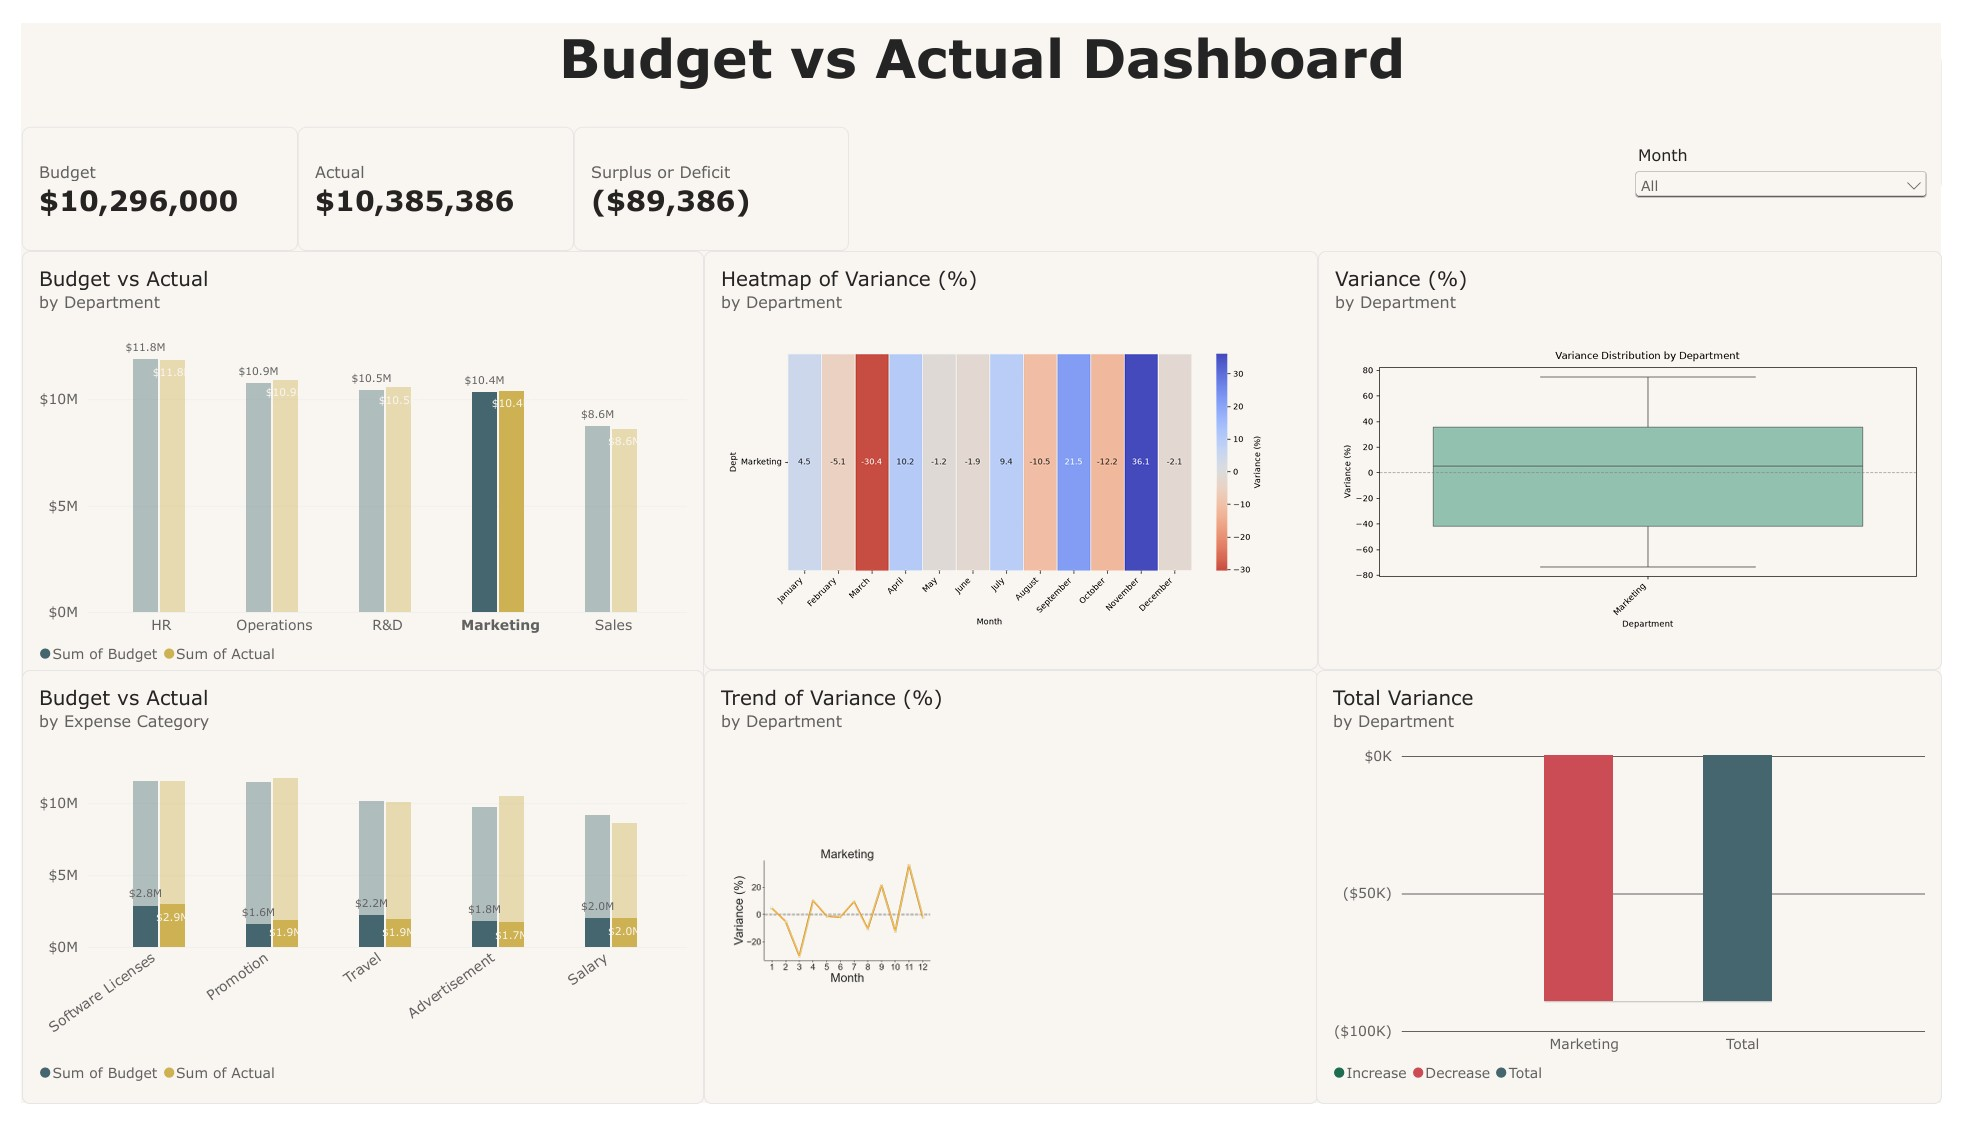

The dashboard page shown, as its layout file describes it:
{"tool":"powerbi","page":{"name":"Summary","canvas":[1920,1080],"ordinal":0},"visuals":[{"type":"clusteredColumnChart","title":"Budget vs Actual","fields":{"Category":["variance_analysis.Department"],"Y":["Sum(variance_analysis.Budget)","Sum(variance_analysis.Actual)"]},"box":[0,226.7,682.2,434.4],"z":0},{"type":"textbox","box":[0,0,1920,91.1],"z":1000},{"type":"cardVisual","fields":{"Data":["Sum(variance_analysis.Actual)"]},"box":[275.8,103.1,275.8,123.7],"z":2000},{"type":"cardVisual","fields":{"Data":["Sum(variance_analysis.Budget)"]},"box":[0,103.1,275.8,123.7],"z":3000},{"type":"clusteredColumnChart","title":"Budget vs Actual","fields":{"Category":["variance_analysis.Category"],"Y":["Sum(variance_analysis.Budget)","Sum(variance_analysis.Actual)"]},"box":[0,645.6,682.2,434.4],"z":4000},{"type":"slicer","fields":{"Values":["variance_analysis.Date.Variation.Date Hierarchy.Month"]},"box":[1607.8,121.1,302.3,87.4],"z":5000},{"type":"pythonVisual","title":"Heatmap of Variance (%)","fields":{"Values":["variance_analysis.Department","variance_analysis.Month","Avg(variance_analysis.Variance_Pct)"]},"box":[682.2,226.7,613.3,418.9],"z":6000},{"type":"cardVisual","fields":{"Data":["Sum(variance_analysis.Variance)"]},"box":[551.7,103.1,275.8,123.7],"z":7000},{"type":"pythonVisual","title":"Trend of Variance (%)","fields":{"Values":["variance_analysis.Department","variance_analysis.Month","Avg(variance_analysis.Variance_Pct)"]},"box":[682.2,645.6,613.3,434.4],"z":8000},{"type":"pythonVisual","title":"Variance (%)","fields":{"Values":["variance_analysis.Department","variance_analysis.Variance_Pct"]},"box":[1295.6,226.7,624.4,418.9],"z":9000},{"type":"waterfallChart","title":"Total Variance","fields":{"Category":["variance_analysis.Department"],"Y":["Sum(variance_analysis.Variance)"]},"box":[1294.4,645.6,625.6,434.4],"z":10000}]}

Visuals, with their boxes in screenshot pixels (x1, y1, x2, y2), scaled from the page's 1920x1080 canvas onto the 1962x1125 screenshot:
"Budget vs Actual" clusteredColumnChart: left=0, top=236, right=697, bottom=689
textbox: left=0, top=0, right=1961, bottom=95
cardVisual - Sum(variance_analysis.Actual): left=282, top=107, right=564, bottom=236
cardVisual - Sum(variance_analysis.Budget): left=0, top=107, right=282, bottom=236
"Budget vs Actual" clusteredColumnChart: left=0, top=673, right=697, bottom=1124
slicer - variance_analysis.Date.Variation.Date Hierarchy.Month: left=1643, top=126, right=1952, bottom=217
"Heatmap of Variance (%)" pythonVisual: left=697, top=236, right=1324, bottom=672
cardVisual - Sum(variance_analysis.Variance): left=564, top=107, right=846, bottom=236
"Trend of Variance (%)" pythonVisual: left=697, top=673, right=1324, bottom=1124
"Variance (%)" pythonVisual: left=1324, top=236, right=1961, bottom=672
"Total Variance" waterfallChart: left=1323, top=673, right=1961, bottom=1124
